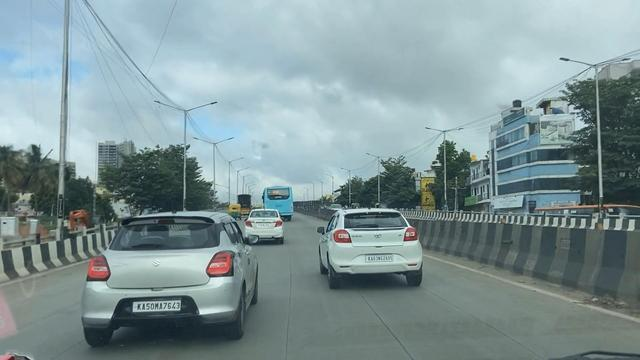HMV: (253, 169, 296, 224)
LMV: (59, 179, 261, 352), (317, 200, 428, 291), (234, 196, 287, 247)
